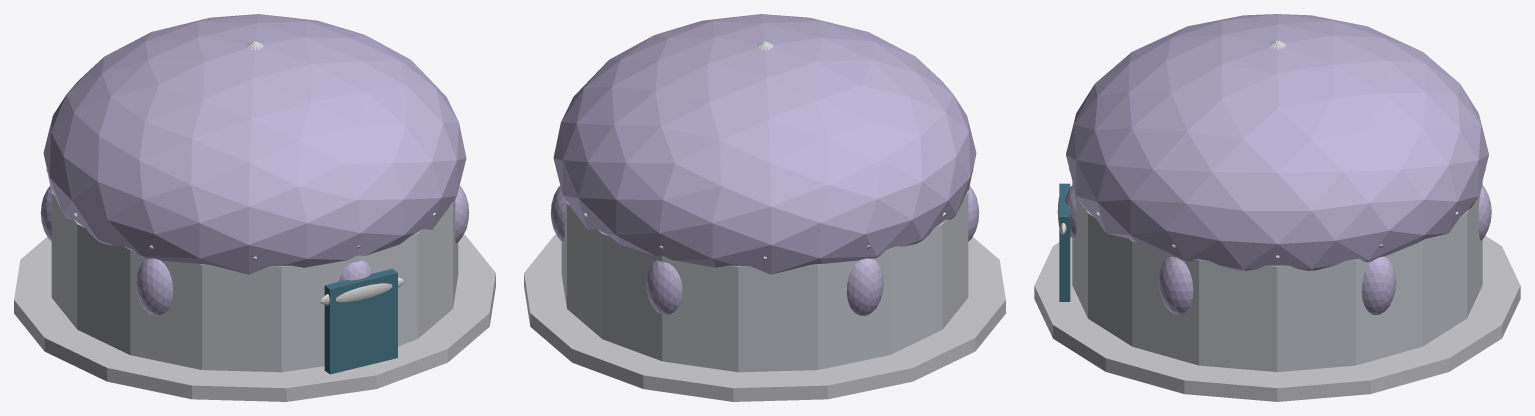
File: orbital-dome.glb
3 renders of one model, left to right at view 1: azimuth 30°, elevation 25°; view 2: azimuth 150°, elevation 25°; view 3: azimuth 270°, elevation 25°, orthographic.
Parts seen in each view (by area): view 1: DomeShell_3, Building_2, Base_1, Entrance_94, Pavilion_20, PortalRing_95, Pavilion_8, Pavilion_5, Pavilion_17; view 2: DomeShell_3, Building_2, Base_1, Pavilion_17, Pavilion_14, Pavilion_11, Pavilion_20; view 3: DomeShell_3, Building_2, Base_1, Pavilion_8, Pavilion_11, Entrance_94, Pavilion_14.
Part boxes in pixels (x1,y1,x2,y2): DomeShell_3: [43, 14, 466, 274]; Building_2: [51, 191, 458, 372]; Base_1: [14, 234, 495, 401]; Entrance_94: [324, 269, 397, 374]; Pavilion_20: [136, 258, 172, 315]; PortalRing_95: [319, 277, 404, 305]; Pavilion_8: [455, 186, 469, 243]; Pavilion_5: [338, 260, 372, 281]; Pavilion_17: [40, 186, 51, 241]; DomeShell_3: [553, 14, 976, 274]; Building_2: [561, 191, 968, 372]; Base_1: [524, 234, 1005, 401]; Pavilion_17: [847, 258, 883, 315]; Pavilion_14: [646, 260, 682, 314]; Pavilion_11: [550, 186, 564, 243]; Pavilion_20: [968, 186, 979, 241]; DomeShell_3: [1066, 14, 1488, 270]; Building_2: [1072, 181, 1482, 371]; Base_1: [1034, 236, 1520, 401]; Pavilion_8: [1158, 256, 1193, 314]; Pavilion_11: [1361, 256, 1396, 314]; Entrance_94: [1059, 183, 1070, 301]; Pavilion_14: [1478, 185, 1491, 240].
Size of the model in its own units: 9.6 by 5.64 by 9.6.
